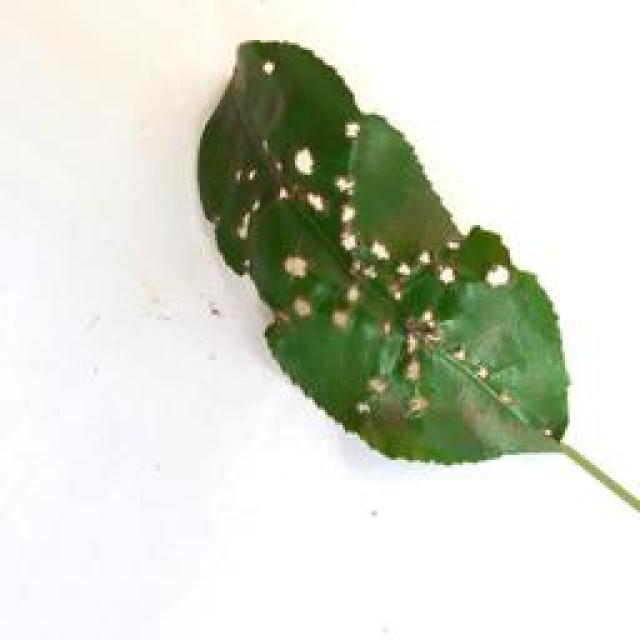Helopeltis: (189, 34, 579, 472)
